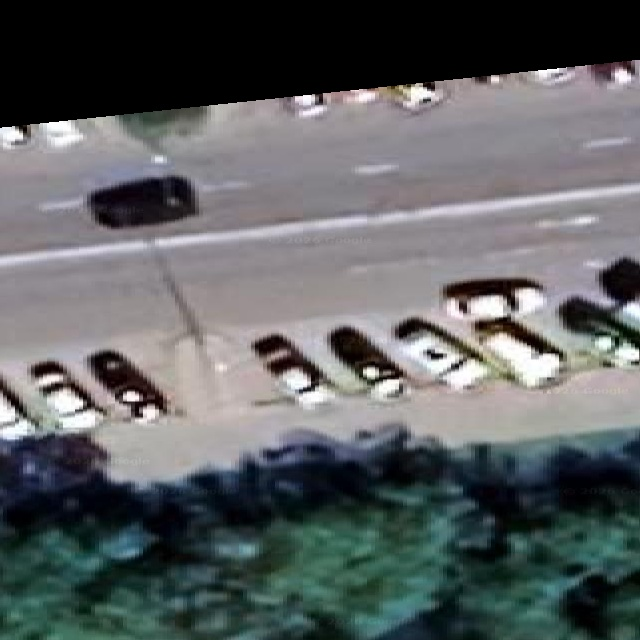car: (255, 423, 407, 489), (252, 430, 376, 502), (393, 316, 489, 387), (475, 319, 564, 387), (328, 326, 408, 400), (253, 333, 332, 407), (87, 350, 167, 422), (557, 296, 639, 366), (88, 176, 198, 227), (30, 360, 103, 431), (443, 278, 544, 320), (255, 428, 347, 468), (255, 442, 333, 479), (600, 256, 639, 329), (0, 379, 36, 440), (384, 80, 447, 111), (600, 256, 639, 304), (593, 332, 639, 366), (39, 120, 83, 147), (588, 60, 635, 83), (283, 94, 327, 116), (324, 88, 377, 103), (527, 67, 575, 83), (613, 300, 639, 328), (0, 124, 30, 148), (612, 60, 635, 83), (344, 88, 377, 103), (473, 75, 502, 83)
